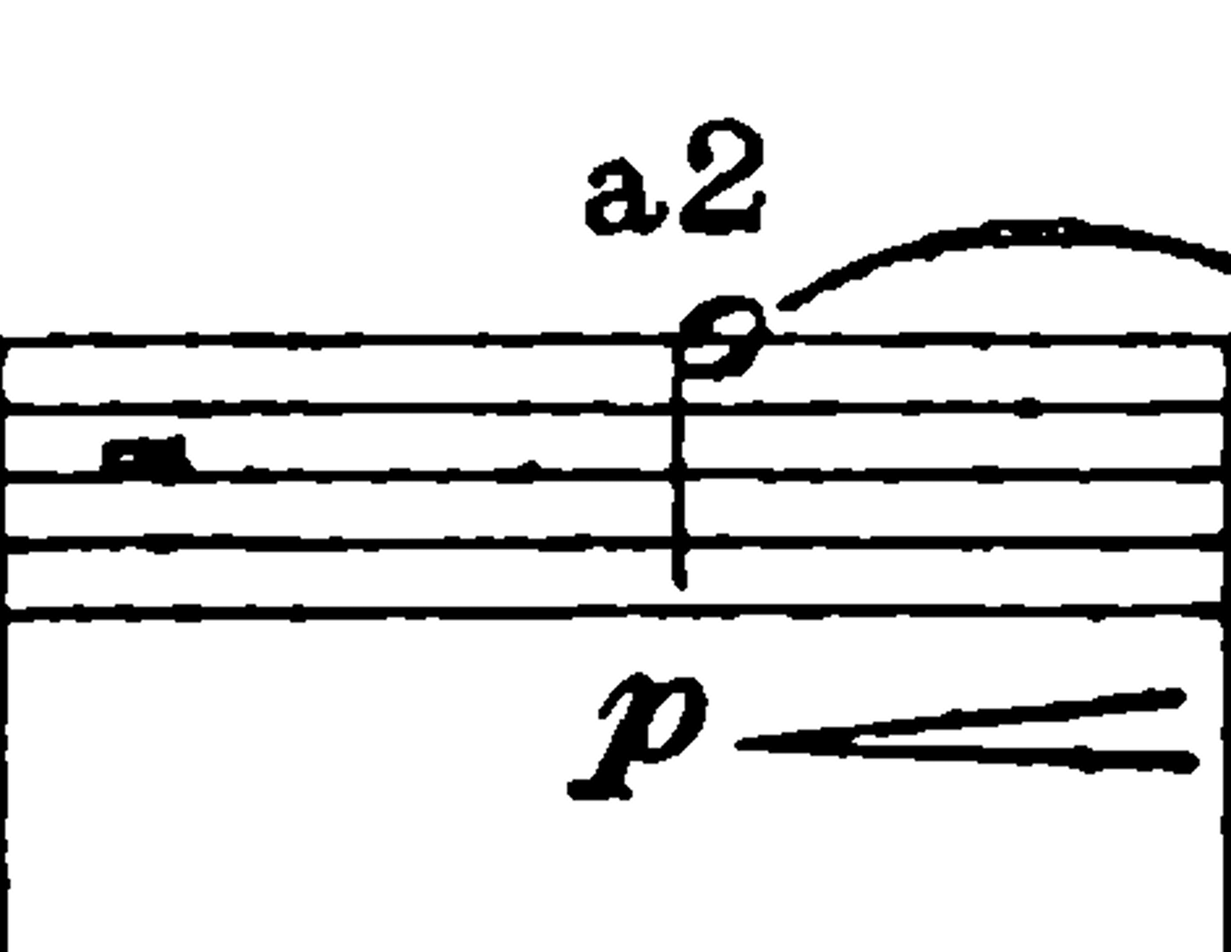beam: (597, 674, 682, 720)
noteheadBlackInSpace: (595, 761, 627, 782), (1157, 688, 1186, 708), (776, 292, 803, 311)
noteheadBlackOnLine: (844, 256, 876, 279), (707, 172, 733, 196), (1014, 397, 1041, 418), (100, 457, 122, 482), (821, 270, 847, 290), (519, 461, 541, 481), (1087, 605, 1106, 622), (1221, 335, 1231, 358)
restHBar: (77, 528, 1000, 559), (108, 462, 1031, 490), (143, 399, 837, 418), (742, 742, 1188, 764)
restWhole: (194, 401, 283, 415), (538, 534, 592, 552), (227, 469, 277, 484), (156, 471, 217, 483), (240, 401, 290, 415), (1181, 605, 1230, 619), (877, 245, 913, 261), (495, 468, 533, 483), (880, 336, 926, 348), (790, 606, 825, 620), (303, 403, 343, 415), (901, 400, 931, 416), (173, 605, 201, 622), (734, 738, 773, 750), (496, 403, 531, 416), (1126, 404, 1161, 415), (551, 406, 581, 416), (1028, 336, 1051, 348), (287, 401, 309, 413), (405, 609, 426, 620), (435, 474, 450, 483), (472, 407, 487, 415)
